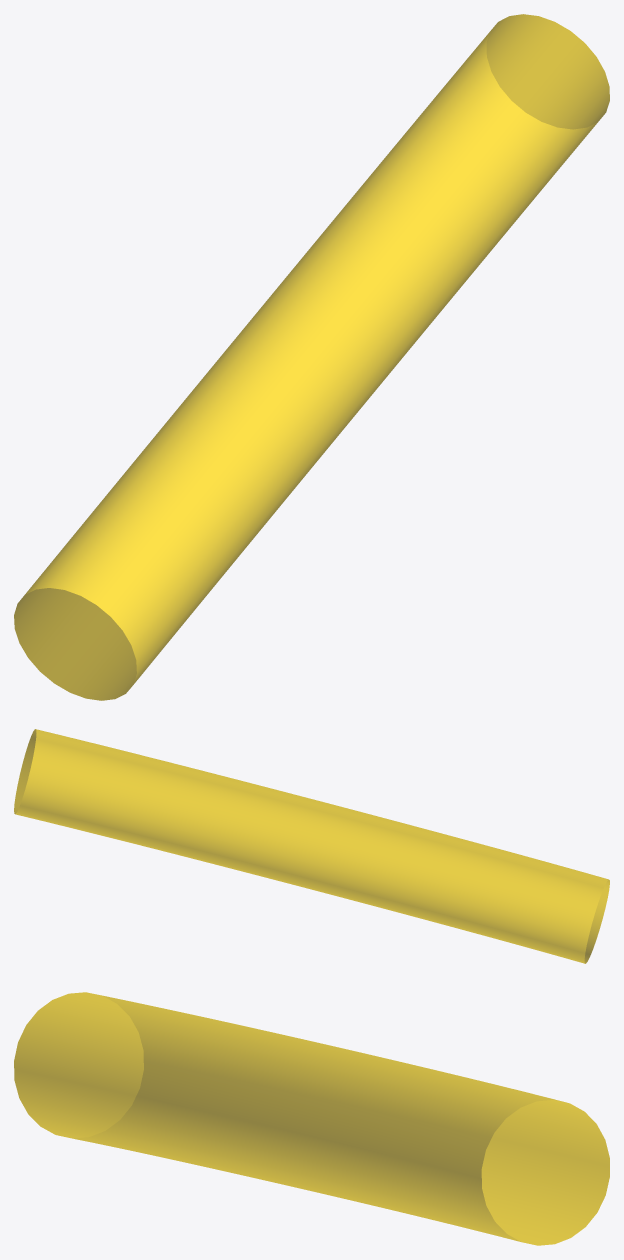
File: Event_40932208_track_7.fbx
3 renders of one model, top to bottom at view 1: azimuth 30°, elevation 25°; view 2: azimuth 150°, elevation 25°; view 3: azimuth 270°, elevation 25°, orthographic. The views are drawn at different scales.
Parts seen in each view (by area): view 1: Model; view 2: Model; view 3: Model.
Boxes of the visible parts, <box> form: Model: <box>14,14,609,700</box>; Model: <box>14,729,609,963</box>; Model: <box>14,992,609,1245</box>.
Size of the model in its own units: 0.2484 by 0.112 by 0.162.
